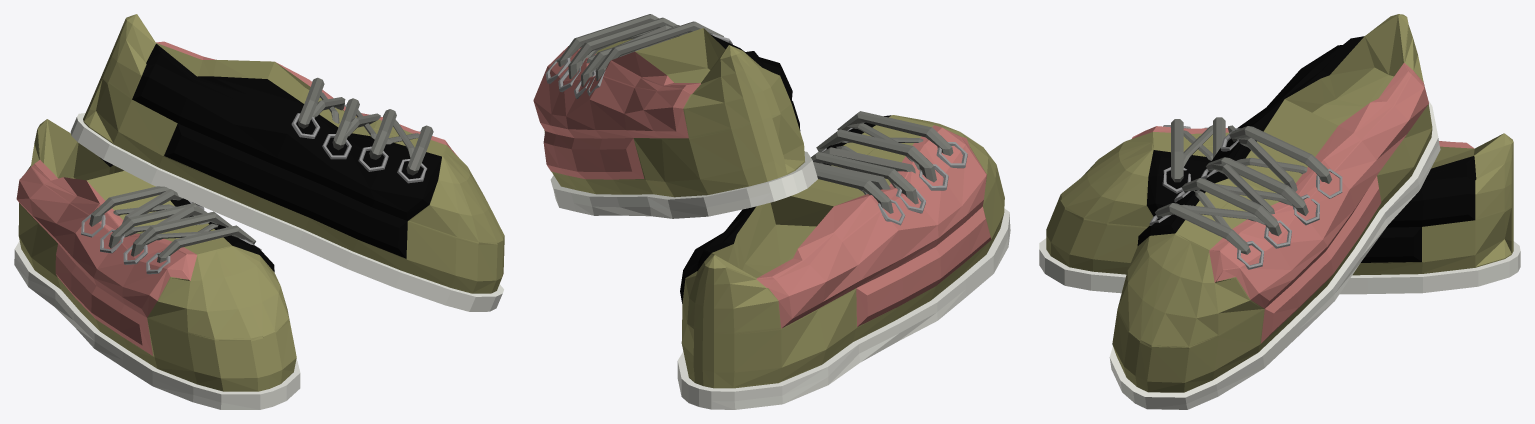
File: Shoes.fbx
3 renders of one model, left to right at view 1: azimuth 30°, elevation 25°; view 2: azimuth 150°, elevation 25°; view 3: azimuth 270°, elevation 25°, orthographic. The views are drawn at different scales.
Parts seen in each view (by area): view 1: Shoe_left, Shoe_right1, Laces_right, Laces_shoe_left, Holes_left, Holes_right; view 2: Shoe_right1, Shoe_left, Laces_right, Laces_shoe_left, Holes_right, Holes_left; view 3: Shoe_left, Shoe_right1, Laces_shoe_left, Laces_right, Holes_left.
Part boxes in pixels (x1=…): Shoe_left: x1=70, y1=14, x2=504, y2=311; Shoe_right1: x1=14, y1=119, x2=300, y2=409; Laces_right: x1=89, y1=186, x2=255, y2=262; Laces_shoe_left: x1=297, y1=77, x2=433, y2=175; Holes_left: x1=291, y1=104, x2=427, y2=183; Holes_right: x1=81, y1=200, x2=261, y2=274; Shoe_right1: x1=677, y1=115, x2=1010, y2=409; Shoe_left: x1=533, y1=28, x2=817, y2=218; Laces_right: x1=811, y1=111, x2=953, y2=213; Laces_shoe_left: x1=558, y1=14, x2=723, y2=86; Holes_right: x1=821, y1=128, x2=967, y2=225; Holes_left: x1=545, y1=34, x2=732, y2=98; Shoe_left: x1=1109, y1=14, x2=1440, y2=409; Shoe_right1: x1=1039, y1=126, x2=1520, y2=294; Laces_shoe_left: x1=1155, y1=126, x2=1331, y2=254; Laces_right: x1=1171, y1=117, x2=1234, y2=182; Holes_left: x1=1149, y1=128, x2=1342, y2=269.
Size of the model in its own units: 164 by 111 by 178.
